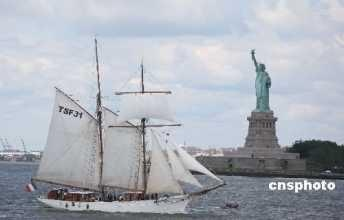fanchuan: (28, 37, 228, 213)
